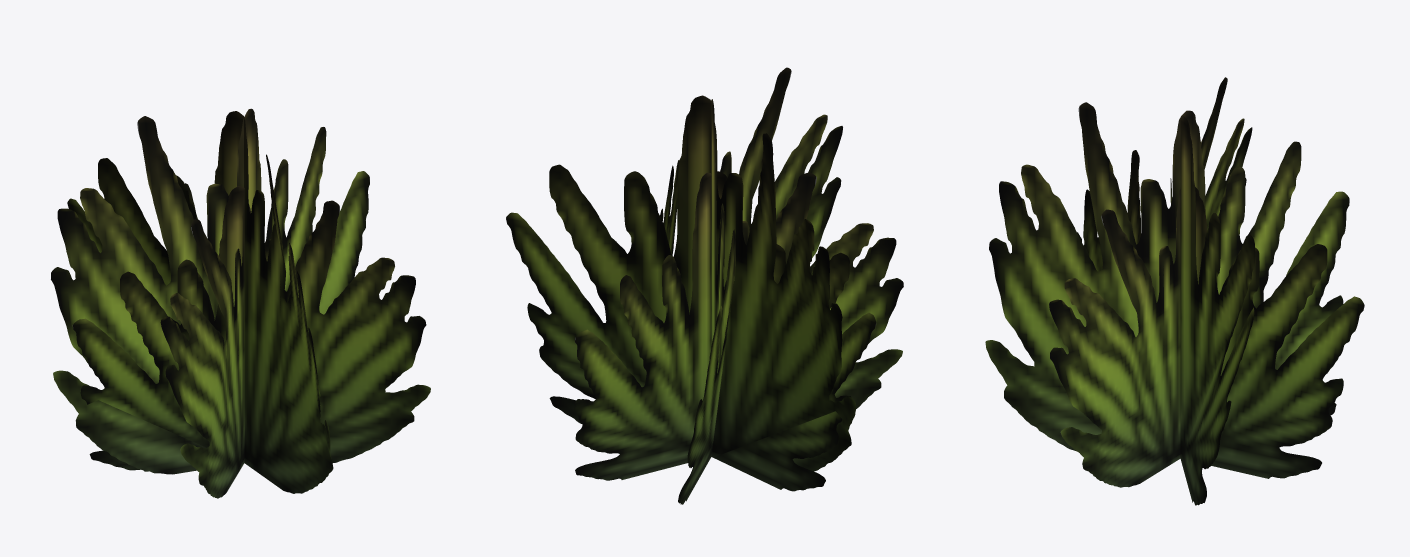
Rendered from ReggulareBush.fbx.
3 views of the same model, side by side, from view 1: azimuth 30°, elevation 25°; view 2: azimuth 150°, elevation 25°; view 3: azimuth 270°, elevation 25° (orthographic). The views are drawn at different scales.
Visible parts, largest first — view 1: ReggulareBush; view 2: ReggulareBush; view 3: ReggulareBush.
Part boxes in pixels (x1,y1,x2,y2): ReggulareBush: [51, 108, 430, 498]; ReggulareBush: [506, 67, 903, 504]; ReggulareBush: [985, 77, 1364, 505].
Size of the model in its own units: 417 by 400 by 432.
Materials: 1 (1 with a texture image).
